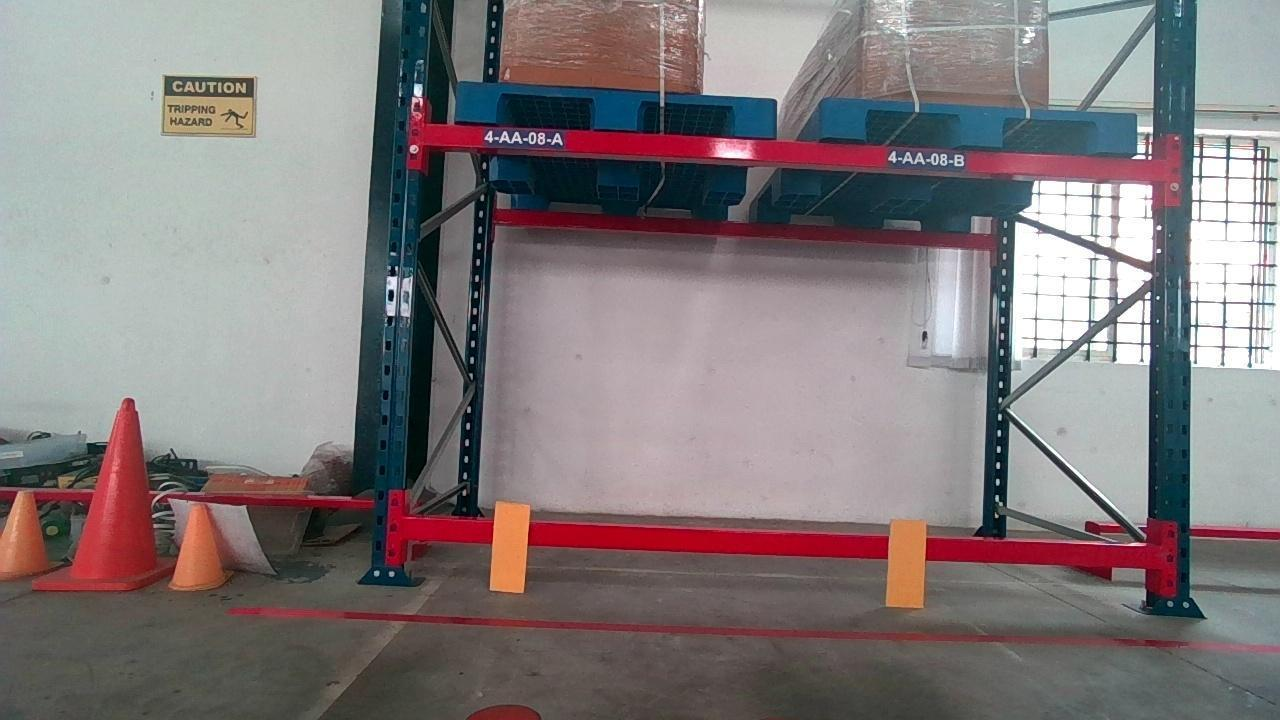h_rack: (397, 519, 1158, 565), (434, 126, 1168, 171)
orange_strip: (886, 518, 926, 606), (490, 501, 529, 589)
small_pallet: (821, 103, 1141, 147), (458, 86, 771, 129)
